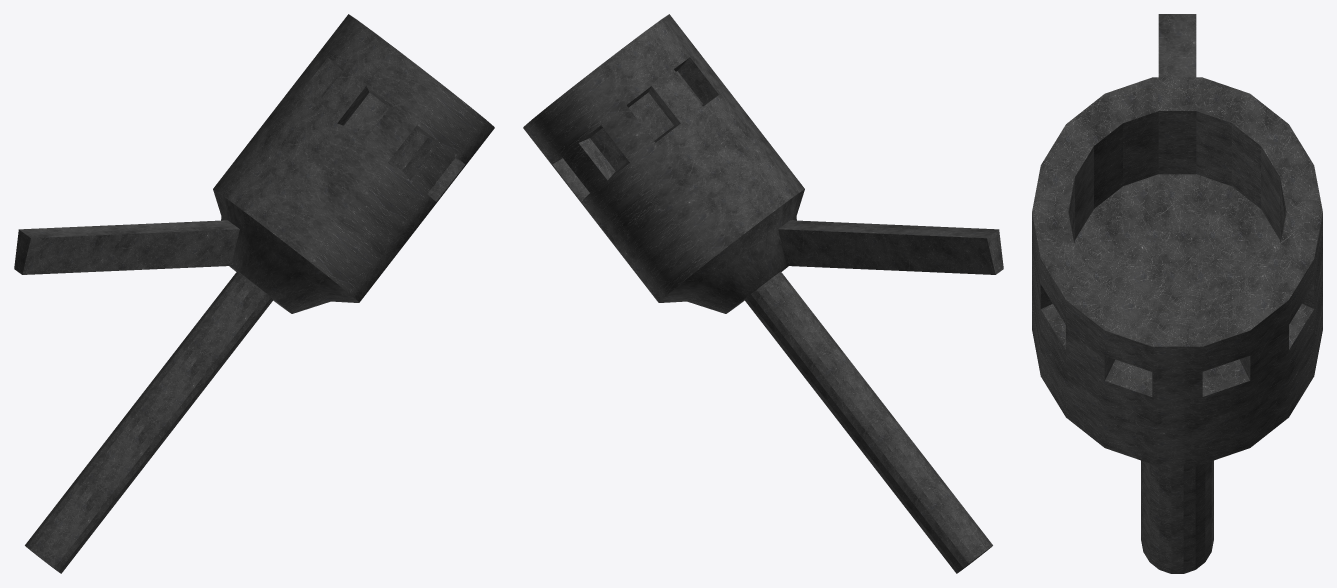
File: Sconce 2.FBX
The picture shows the model from 3 angles, left to right: view 1: azimuth 30°, elevation 25°; view 2: azimuth 150°, elevation 25°; view 3: azimuth 270°, elevation 25°; orthographic projection. The views are drawn at different scales.
Parts seen in each view (by area): view 1: Sconce; view 2: Sconce; view 3: Sconce.
Part boxes in pixels (bbox=[...]): Sconce: bbox=[14, 14, 494, 573]; Sconce: bbox=[523, 14, 1003, 573]; Sconce: bbox=[1032, 14, 1322, 573].
Size of the model in its own units: 24.39 by 23.82 by 8.61.
1 material, 1 textured.
